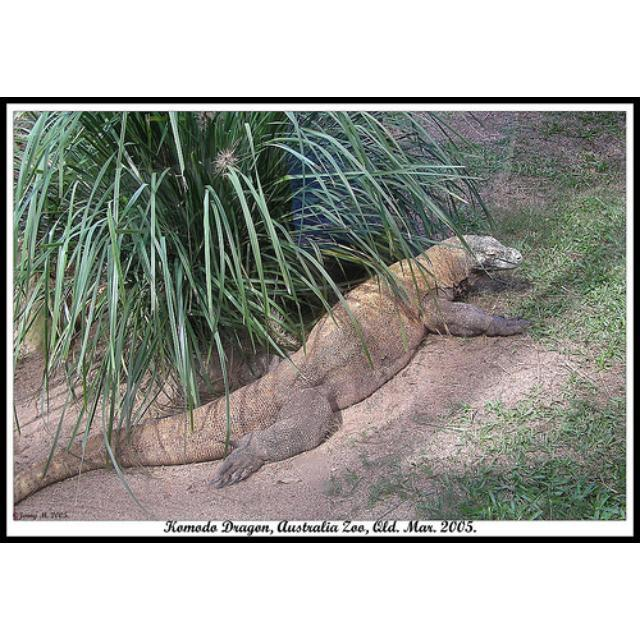KomodoDragon: (11, 232, 531, 507)
